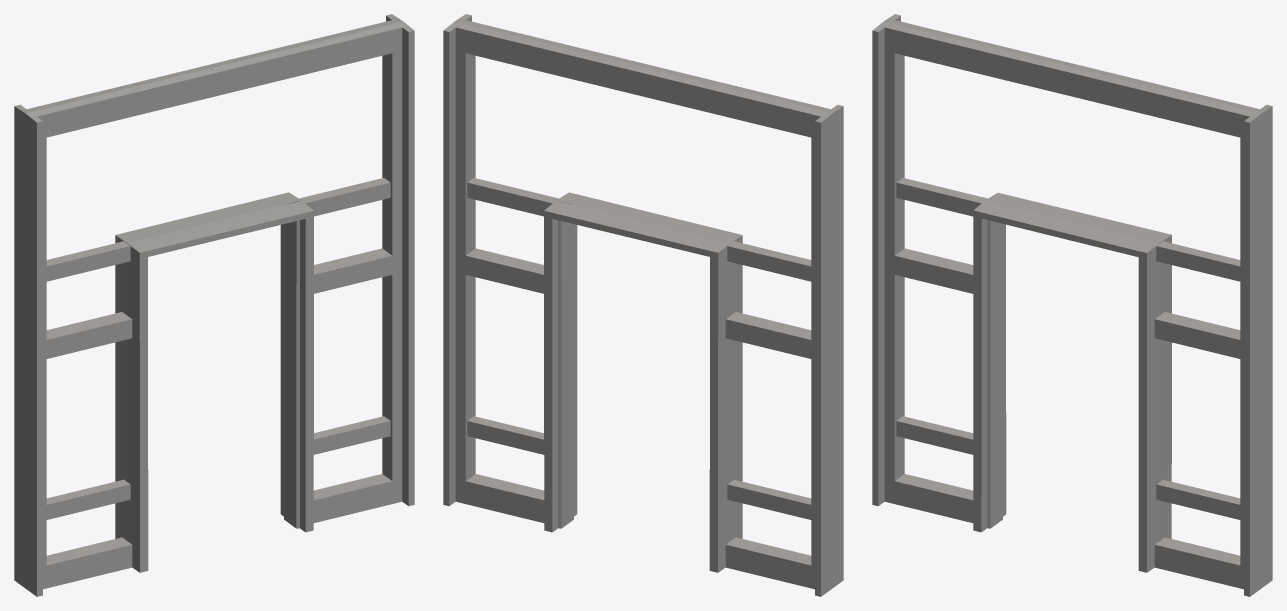
File: SM_Bld_Base_Wall_Glass_Door_01.obj
The picture shows the model from 3 angles, left to right: view 1: azimuth 30°, elevation 25°; view 2: azimuth 150°, elevation 25°; view 3: azimuth 330°, elevation 25°; orthographic projection.
Visible parts, largest first — view 1: SM_Bld_Base_Wall_Glass_Door_01_0; view 2: SM_Bld_Base_Wall_Glass_Door_01_0; view 3: SM_Bld_Base_Wall_Glass_Door_01_0.
Part boxes in pixels (x1,y1,x2,y2): SM_Bld_Base_Wall_Glass_Door_01_0: (14, 14, 414, 596); SM_Bld_Base_Wall_Glass_Door_01_0: (443, 14, 843, 596); SM_Bld_Base_Wall_Glass_Door_01_0: (872, 14, 1272, 596).
Size of the model in its own units: 2.5 by 3.01 by 0.288.
1 material, 1 textured.
